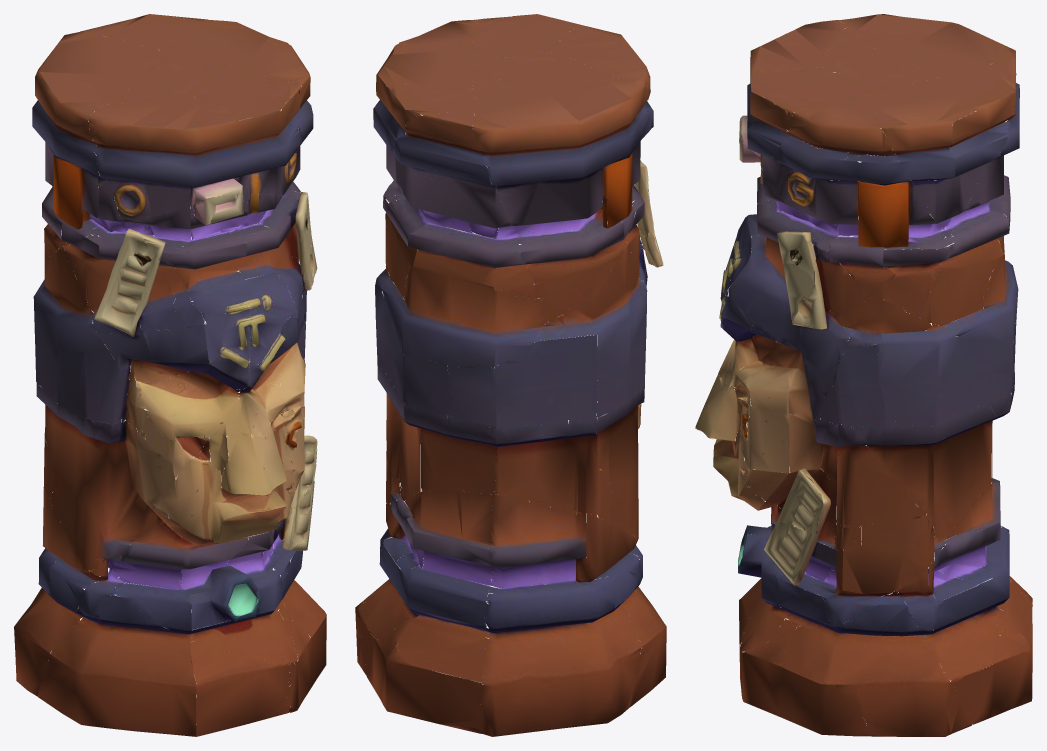
The model's file is totem.glb.
3 renders of one model, left to right at view 1: azimuth 30°, elevation 25°; view 2: azimuth 150°, elevation 25°; view 3: azimuth 270°, elevation 25°, orthographic.
Visible parts, largest first — view 1: tripo_node_a7d5340e-5a7a-47cb-8af0-399800cb183c; view 2: tripo_node_a7d5340e-5a7a-47cb-8af0-399800cb183c; view 3: tripo_node_a7d5340e-5a7a-47cb-8af0-399800cb183c.
Boxes of the visible parts, x1=… form: tripo_node_a7d5340e-5a7a-47cb-8af0-399800cb183c: x1=14, y1=14, x2=326, y2=736; tripo_node_a7d5340e-5a7a-47cb-8af0-399800cb183c: x1=355, y1=14, x2=666, y2=736; tripo_node_a7d5340e-5a7a-47cb-8af0-399800cb183c: x1=695, y1=14, x2=1032, y2=736.
Bounding box in the file's own units: 0.4453 × 1 × 0.5063.
Materials: 1 (1 with a texture image).
